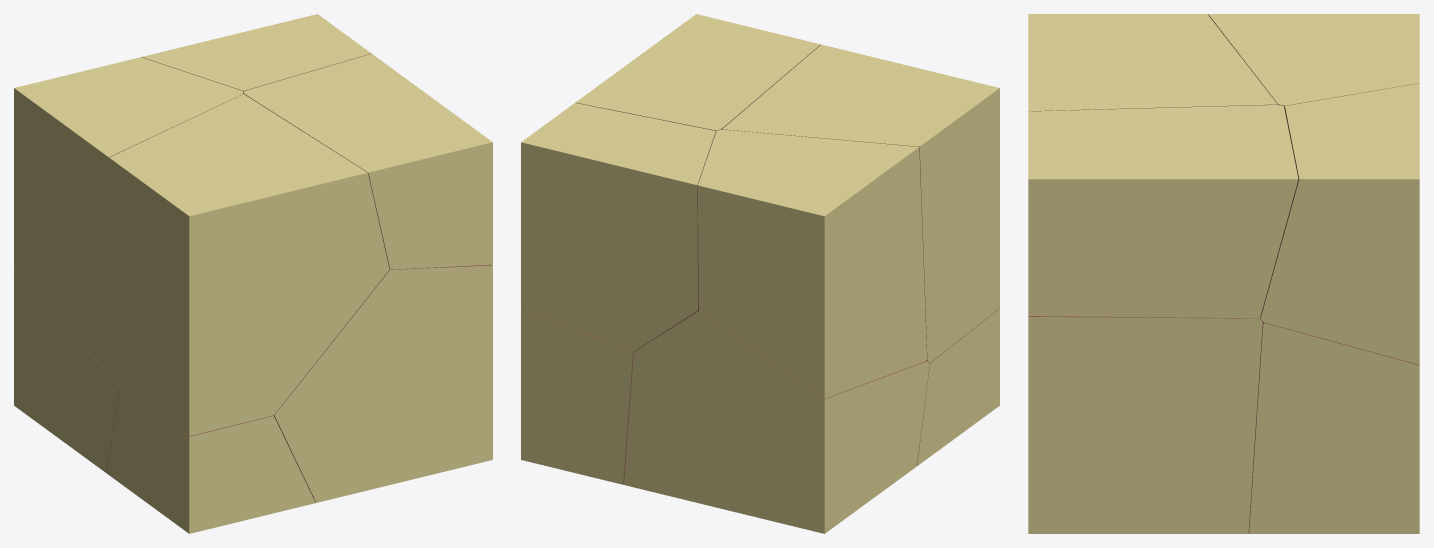
Rendered from FracturesSquares1m.fbx.
3 views of the same model, side by side, from view 1: azimuth 30°, elevation 25°; view 2: azimuth 150°, elevation 25°; view 3: azimuth 270°, elevation 25° (orthographic). The views are drawn at different scales.
Visible parts, largest first — view 1: Cube.005_cell.001, Cube.005_cell.004, Cube.005_cell.003, Cube.005_cell.005, Cube.005_cell, Cube.005_cell.002, Cube.005_cell.007; view 2: Cube.005_cell.003, Cube.005_cell.002, Cube.005_cell.007, Cube.005_cell.001, Cube.005_cell.006, Cube.005_cell.005, Cube.005_cell; view 3: Cube.005_cell.005, Cube.005_cell.004, Cube.005_cell.007, Cube.005_cell.006, Cube.005_cell.001, Cube.005_cell.003.
Part boxes in pixels (<box>): Cube.005_cell.001: <box>109,94,389,435</box>; Cube.005_cell.004: <box>273,264,492,502</box>; Cube.005_cell.003: <box>14,57,243,381</box>; Cube.005_cell.005: <box>244,53,492,269</box>; Cube.005_cell: <box>106,389,315,533</box>; Cube.005_cell.002: <box>14,271,119,472</box>; Cube.005_cell.007: <box>141,14,371,93</box>; Cube.005_cell.003: <box>697,129,927,398</box>; Cube.005_cell.002: <box>624,308,929,533</box>; Cube.005_cell.007: <box>521,103,715,351</box>; Cube.005_cell.001: <box>722,44,999,362</box>; Cube.005_cell.006: <box>521,308,633,484</box>; Cube.005_cell.005: <box>575,14,820,131</box>; Cube.005_cell: <box>917,308,999,465</box>; Cube.005_cell.005: <box>1028,105,1298,318</box>; Cube.005_cell.004: <box>1028,316,1263,533</box>; Cube.005_cell.007: <box>1260,83,1419,364</box>; Cube.005_cell.006: <box>1249,322,1419,533</box>; Cube.005_cell.001: <box>1028,14,1277,111</box>; Cube.005_cell.003: <box>1208,14,1419,107</box>.
Bounding box in the file's own units: 100 × 100 × 100.
